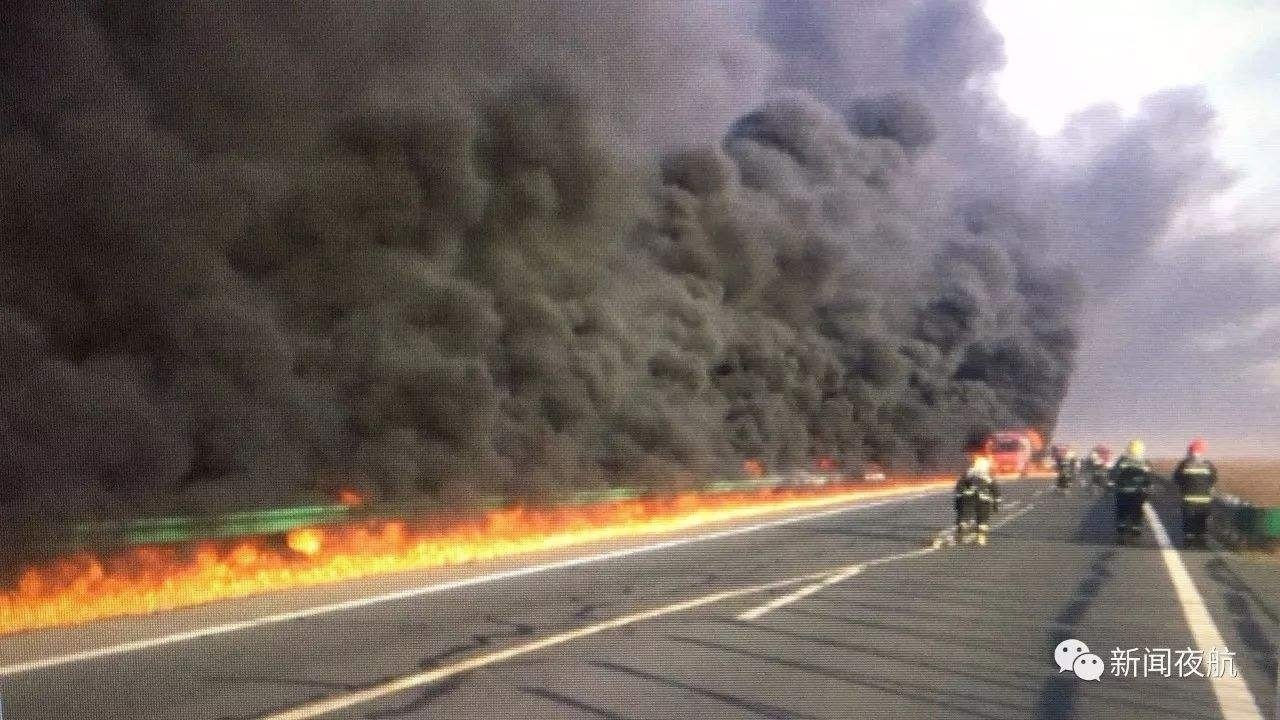fire: (0, 439, 1011, 599)
